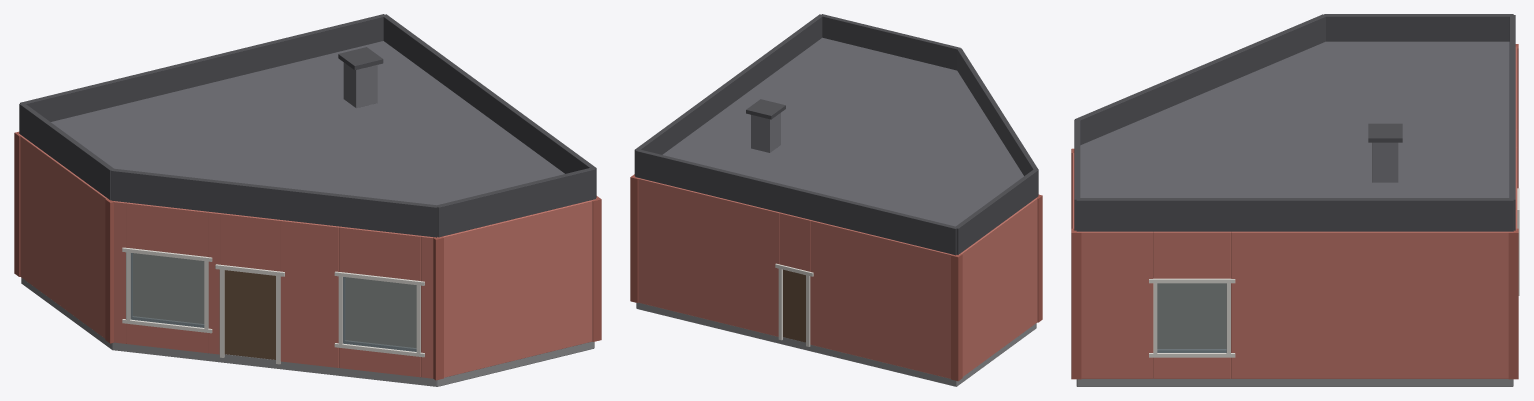
Rendered from Bar.glb.
3 renders of one model, left to right at view 1: azimuth 30°, elevation 25°; view 2: azimuth 150°, elevation 25°; view 3: azimuth 270°, elevation 25°, orthographic. The views are drawn at different scales.
Parts seen in each view (by area): view 1: FTF_Bar_Pentagonal_RedBrick_Enterable_v2_1_Static, Door_Front; view 2: FTF_Bar_Pentagonal_RedBrick_Enterable_v2_1_Static, Door_Back; view 3: FTF_Bar_Pentagonal_RedBrick_Enterable_v2_1_Static.
Part boxes in pixels (x1,y1,x2,y2): FTF_Bar_Pentagonal_RedBrick_Enterable_v2_1_Static: (14,14,601,386); Door_Front: (224,270,275,359); FTF_Bar_Pentagonal_RedBrick_Enterable_v2_1_Static: (630,14,1042,386); Door_Back: (783,269,805,342); FTF_Bar_Pentagonal_RedBrick_Enterable_v2_1_Static: (1071,14,1519,386).
Size of the model in its own units: 10.66 by 5.59 by 10.66.
